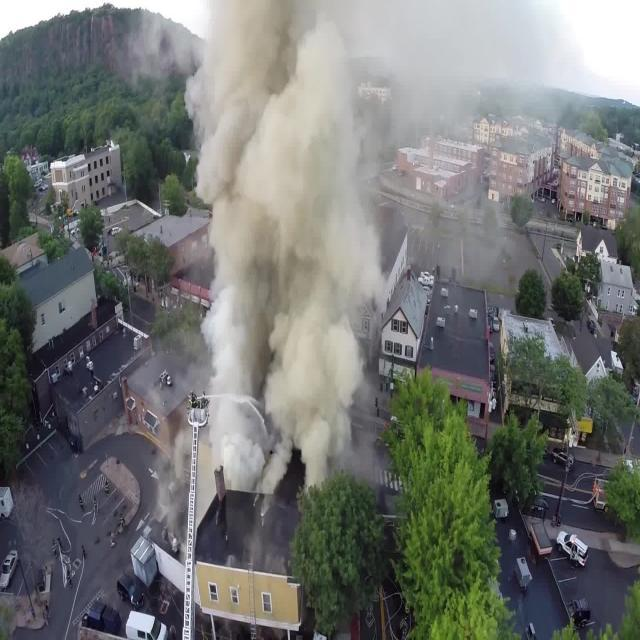Fire: (600, 624, 620, 640)
Smoke: (174, 18, 400, 481)
